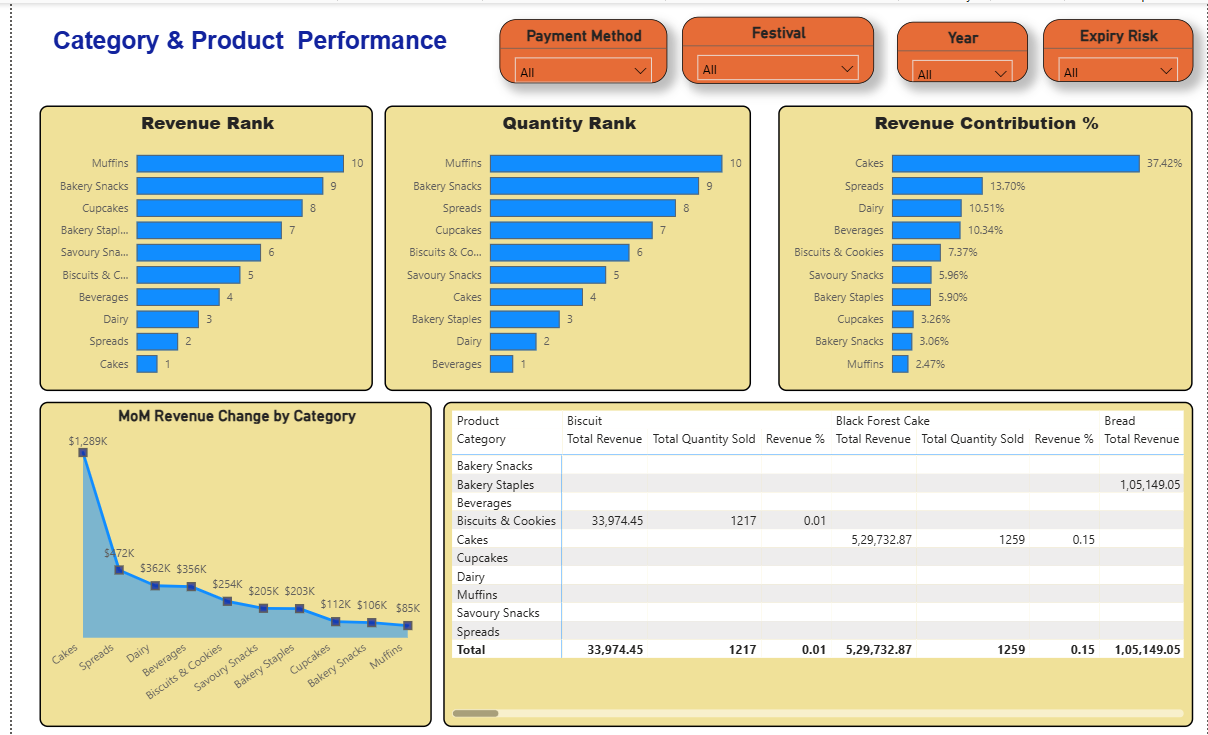

What the dashboard file says about the page in this screenshot:
{"tool":"powerbi","page":{"name":"Category & Product  Performance ","canvas":[1300,800],"ordinal":1},"visuals":[{"type":"textbox","box":[19.5,22.3,479.4,57.1],"z":0},{"type":"barChart","title":" Revenue Rank ","fields":{"Category":["bakery_sales.Category"],"Y":["Core KPI Measures.Category Revenue Rank"]},"box":[29.3,111.5,362.4,310.8],"z":1000},{"type":"barChart","title":"Quantity Rank ","fields":{"Category":["bakery_sales.Category"],"Y":["Core KPI Measures.Category Quantity Rank"]},"box":[405.6,111.5,398.6,310.8],"z":2000},{"type":"barChart","title":" Revenue Contribution %","fields":{"Category":["bakery_sales.Category"],"Y":["Advanced Measures.Category Revenue Contribution %"]},"box":[833.4,111.5,450.2,310.8],"z":3000},{"type":"lineChart","fields":{"Y":["DateTable.MoM Revenue Change"],"Category":["bakery_sales.Category"]},"box":[29.3,433.4,426.5,354],"z":4000},{"type":"pivotTable","fields":{"Rows":["bakery_sales.Category"],"Columns":["bakery_sales.Product"],"Values":["Core KPI Measures.Total Revenue","Core KPI Measures.Total Quantity Sold","Core KPI Measures.Revenue %"]},"box":[468.3,433.4,815.3,354],"z":4002},{"type":"slicer","title":" Festival","fields":{"Values":["bakery_sales.Festival"]},"box":[728.9,15.3,209,72.5],"z":4003},{"type":"slicer","title":"Year","fields":{"Values":["bakery_sales.transaction_date.Variation.Date Hierarchy.Year"]},"box":[961.6,20.9,142.2,65.5],"z":4004},{"type":"slicer","title":"Expiry Risk","fields":{"Values":["bakery_sales.Expiry_Risk"]},"box":[1120.5,18.1,163.1,68.3],"z":4005},{"type":"slicer","title":"Payment Method","fields":{"Values":["bakery_sales.Payment_Method"]},"box":[529.6,18.1,182.6,69.7],"z":4006}]}

Visuals, with their boxes in screenshot pixels (x1, y1, x2, y2), scaled from the page's 1300x800 canvas onto the 1208x735 screenshot:
textbox: 18, 20, 464, 73
" Revenue Rank " barChart: 27, 102, 364, 388
"Quantity Rank " barChart: 377, 102, 747, 388
" Revenue Contribution %" barChart: 774, 102, 1193, 388
lineChart - DateTable.MoM Revenue Change x bakery_sales.Category: 27, 398, 424, 723
pivotTable - bakery_sales.Category x bakery_sales.Product: 435, 398, 1193, 723
" Festival" slicer: 677, 14, 872, 81
"Year" slicer: 894, 19, 1026, 79
"Expiry Risk" slicer: 1041, 17, 1193, 79
"Payment Method" slicer: 492, 17, 662, 81
